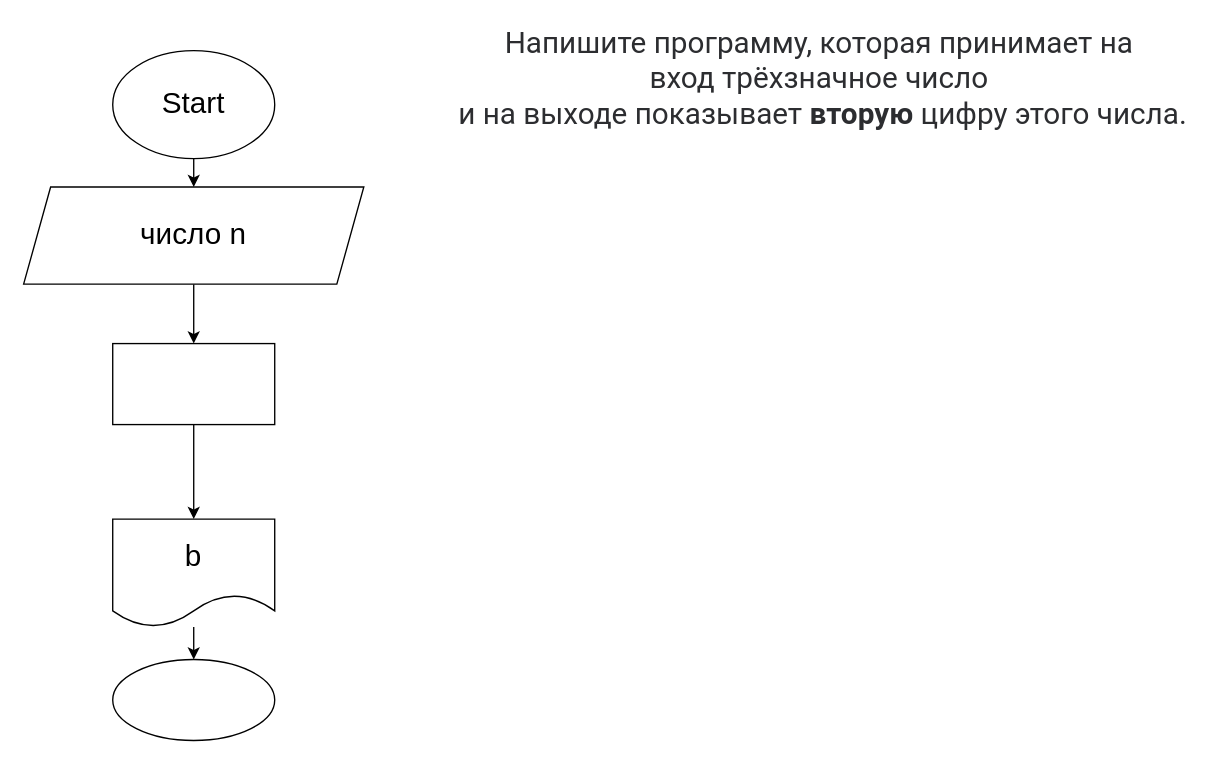
This 1216x764 diagram has some shape labels left out. Each missing label, with the centre of its shape:
a = n / 10 b = a % 10: [193,383]
End: [193,699]
